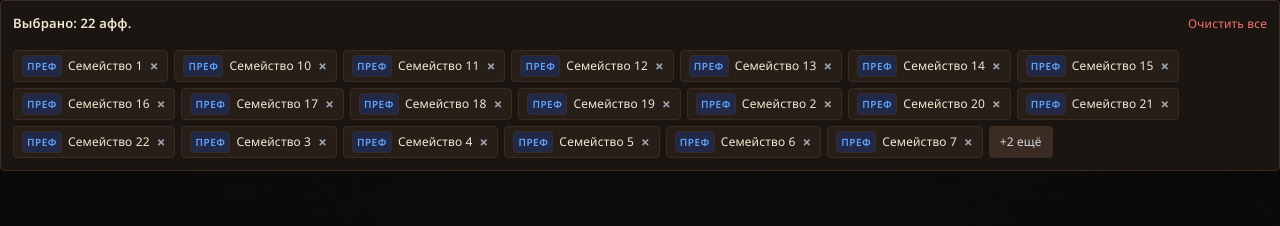
SelectedBasket — Phase 3 (iter 135) › cap = SELECTED_BASKET_CAP (20) › clicking «свернуть» (after expansion) re-truncates to cap
Click the button with aria-label "Развернуть оставшиеся": x=1021, y=142 [989,126,1052,158]
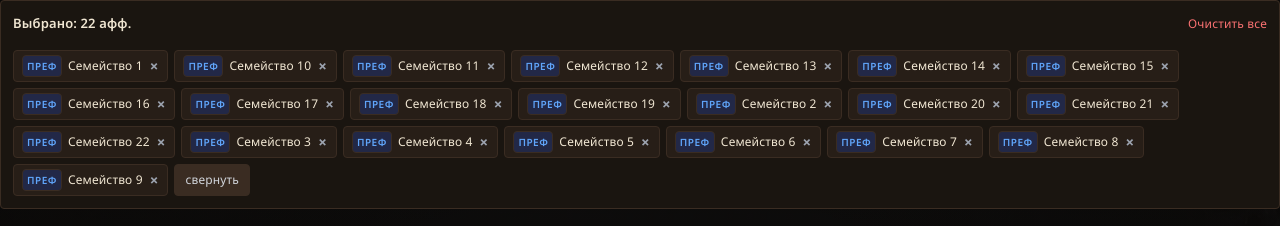
Now the number of buttons "ПРЕФ Семейство 1 ✗" is 22
Collapse → back to 20 visible.
Click the button with aria-label "Свернуть оставшиеся выбранные аффиксы": x=212, y=180 [174,164,250,196]
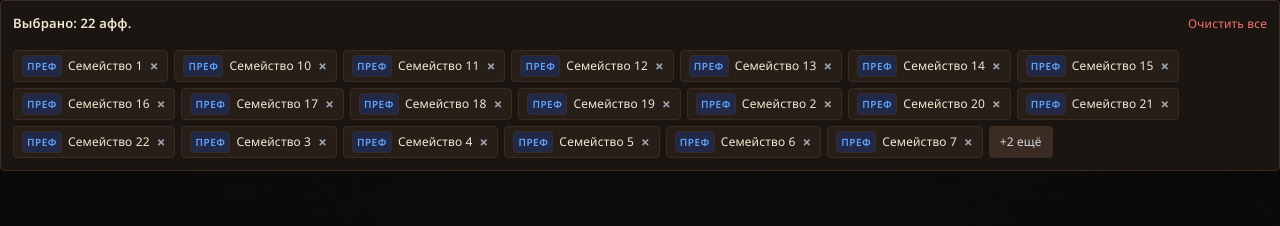
Now the number of buttons "ПРЕФ Семейство 1 ✗" is 20
Now the button with aria-label "Развернуть оставшиеся" is shown, box [989,126,1052,158]
